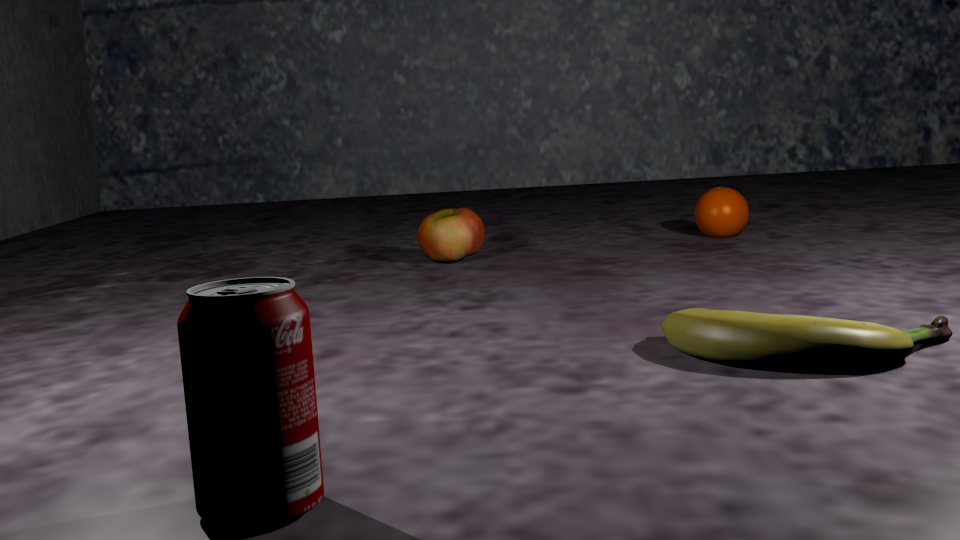apple: (419, 209, 485, 258)
banana: (662, 308, 953, 352)
cola_can: (179, 277, 324, 509)
orange: (699, 188, 749, 234)
